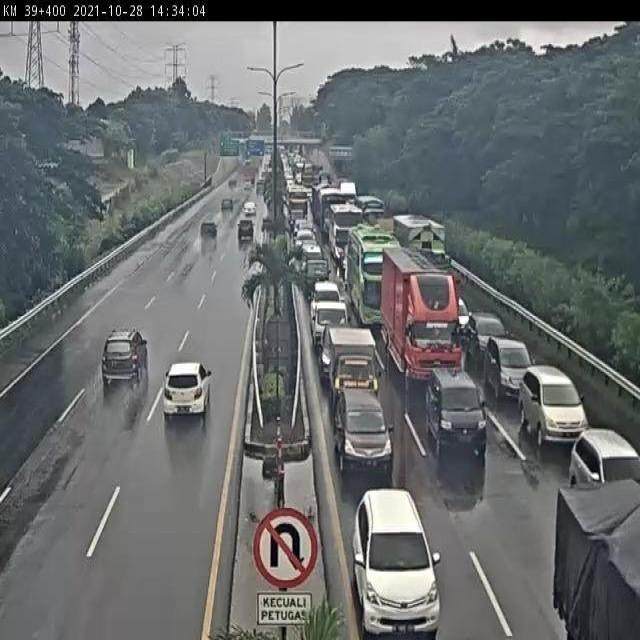bus-l-: (348, 228, 401, 329), (328, 206, 368, 262)
car: (349, 475, 438, 624), (565, 424, 640, 517), (327, 382, 395, 478), (420, 367, 487, 462), (520, 364, 591, 452), (322, 328, 384, 405), (162, 360, 212, 419), (100, 329, 152, 383), (488, 339, 533, 401), (309, 296, 350, 352), (466, 313, 508, 360), (298, 258, 330, 298), (447, 293, 470, 335), (296, 238, 320, 266), (312, 278, 340, 302), (294, 222, 312, 242)
truck-l-: (380, 247, 459, 393), (392, 212, 456, 284)
